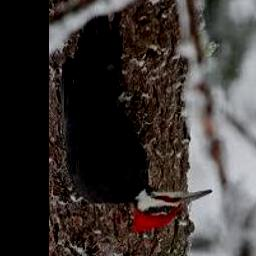Woodpecker: (67, 14, 212, 234)
